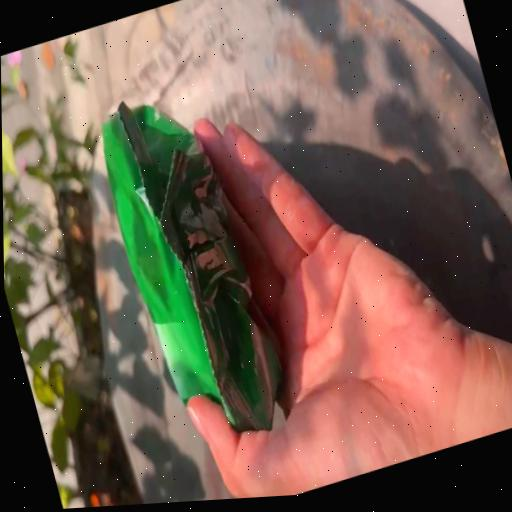cafe_xay: (103, 101, 281, 430)
